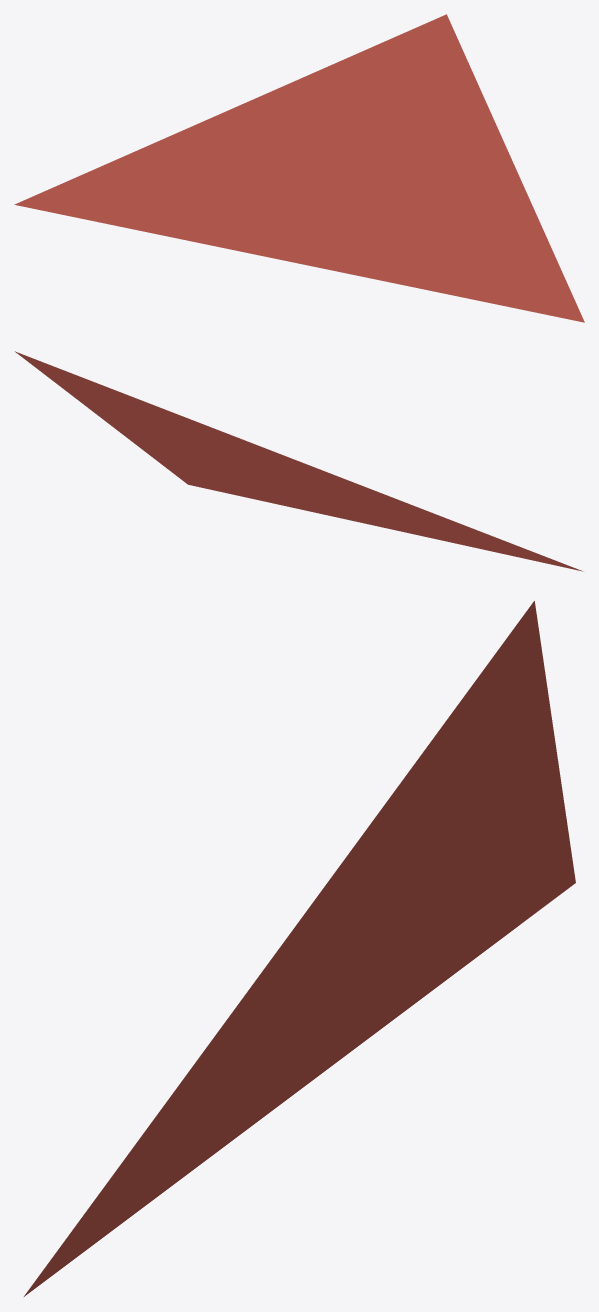
File: harbor-pitched-roof.lod2.glb
3 views of the same model, one above another, from view 1: azimuth 30°, elevation 25°; view 2: azimuth 150°, elevation 25°; view 3: azimuth 270°, elevation 25° (orthographic). The views are drawn at different scales.
Parts seen in each view (by area): view 1: harbor-pitched-roof__roof; view 2: harbor-pitched-roof__roof; view 3: harbor-pitched-roof__roof.
Boxes of the visible parts, box(x1,y1,x2,y2) form: harbor-pitched-roof__roof: box(14, 14, 584, 322); harbor-pitched-roof__roof: box(15, 351, 583, 571); harbor-pitched-roof__roof: box(24, 601, 575, 1296).
Bounding box in the file's own units: 2 × 0.8944 × 1.08.
